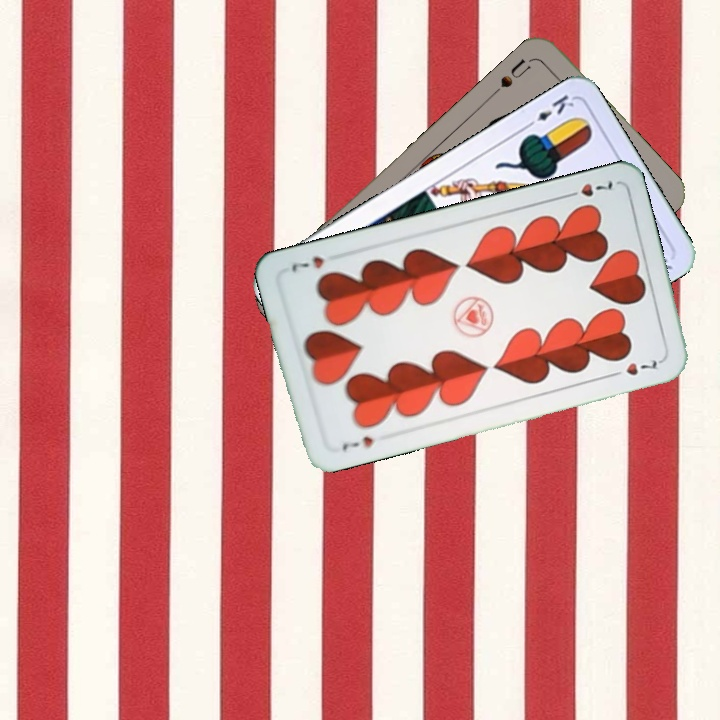EK: (521, 90, 577, 131)
H7: (560, 175, 615, 201), (338, 432, 376, 456)
SU: (488, 54, 536, 98)
